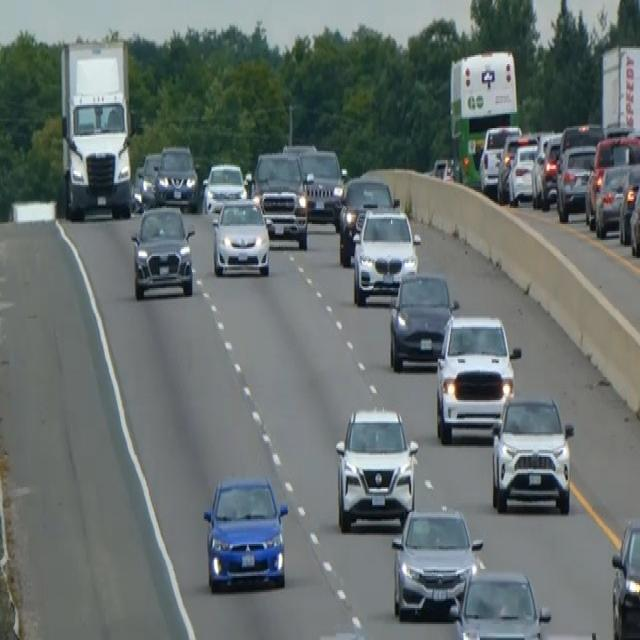bus: (447, 48, 519, 187)
car: (434, 311, 520, 445), (334, 404, 418, 532), (390, 505, 483, 620), (490, 391, 574, 514), (202, 473, 288, 592), (388, 268, 458, 372), (449, 567, 551, 638), (351, 204, 420, 306), (130, 202, 195, 300), (252, 149, 309, 249), (584, 132, 639, 230), (338, 176, 396, 267), (210, 195, 271, 278), (610, 514, 639, 638), (299, 146, 344, 218), (555, 142, 596, 220), (497, 132, 540, 206), (478, 122, 521, 194), (154, 142, 199, 210), (594, 160, 630, 236), (201, 160, 246, 215), (531, 133, 562, 208), (617, 160, 639, 244), (132, 149, 160, 208), (629, 176, 639, 256)
lorry: (58, 38, 135, 220)
